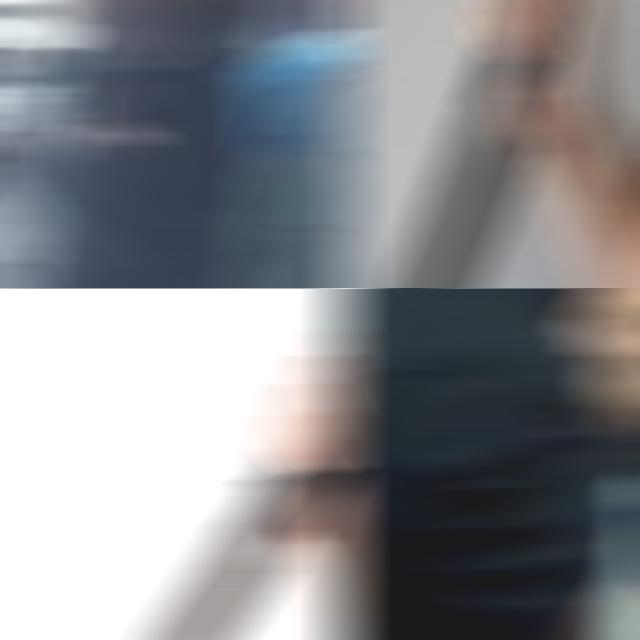Knife: (148, 455, 347, 640), (600, 427, 640, 640)
Knife_Handle: (66, 297, 356, 640), (358, 0, 598, 288), (555, 288, 640, 640)
